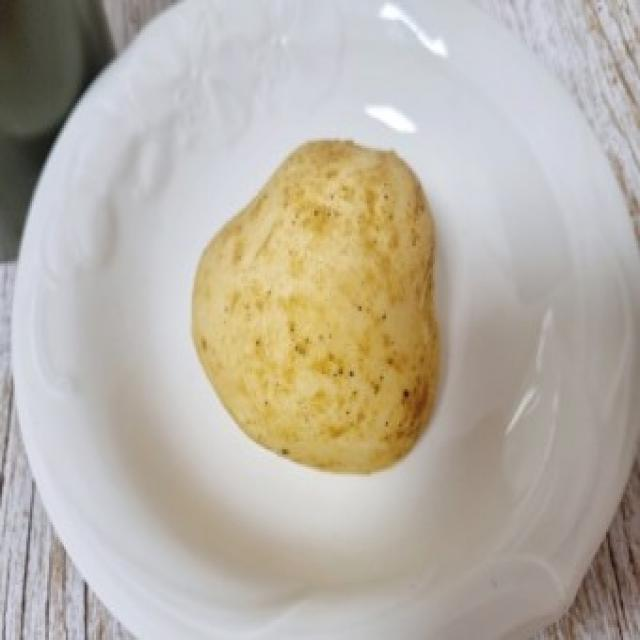potato: (187, 130, 449, 473)
